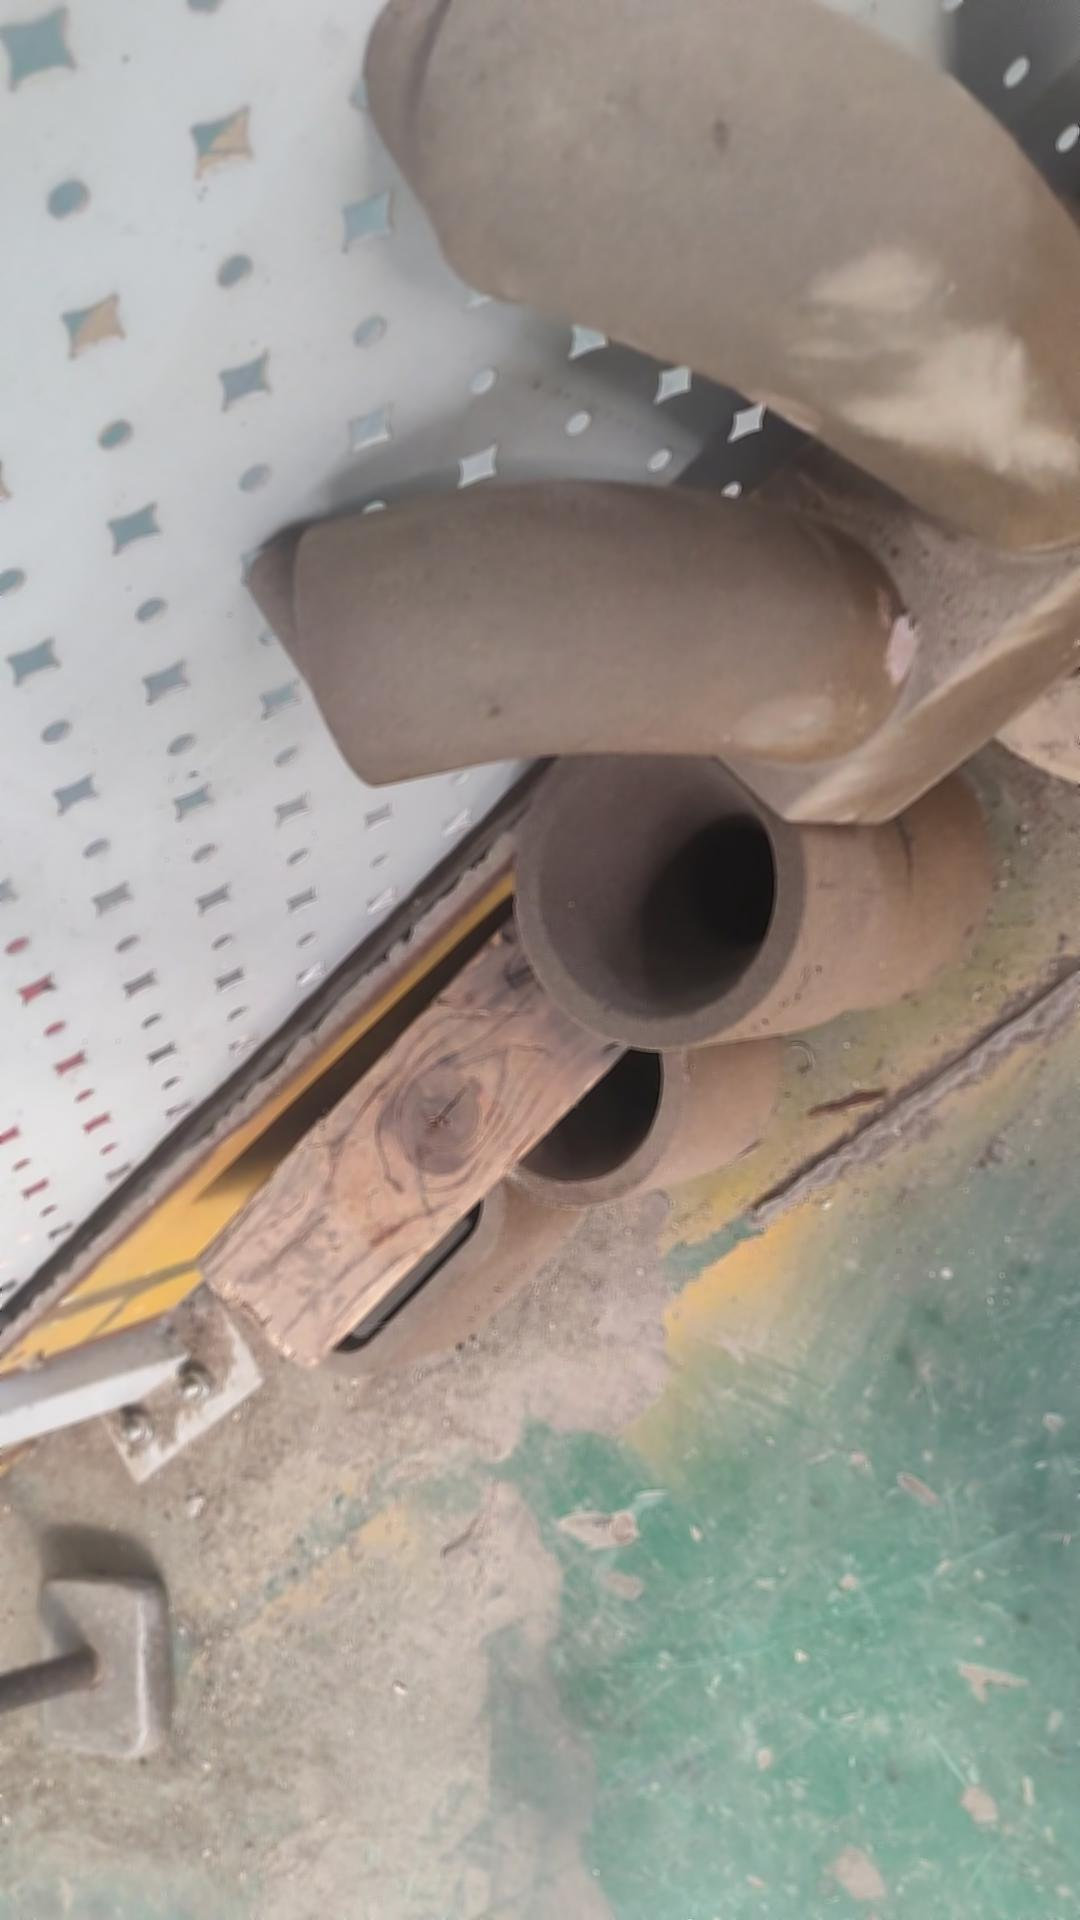pouring hole: (529, 746, 777, 1027), (476, 1009, 665, 1183)
